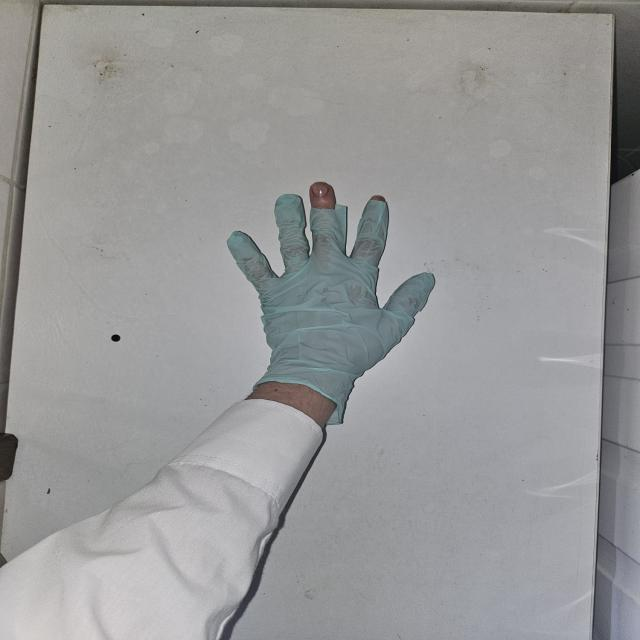gloves_damaged: (225, 174, 442, 428)
